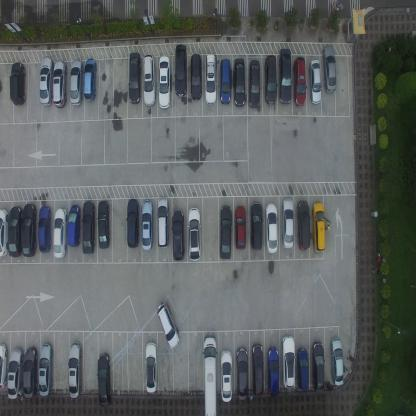car: (155, 300, 180, 349), (203, 334, 217, 415), (67, 341, 83, 399), (7, 345, 23, 401), (96, 353, 112, 407), (38, 342, 53, 398), (187, 207, 202, 262), (281, 335, 296, 390), (38, 56, 54, 106), (52, 60, 68, 109), (82, 200, 96, 256), (311, 201, 326, 253), (296, 200, 311, 252), (279, 48, 292, 107), (128, 51, 142, 105), (22, 203, 36, 257), (8, 204, 22, 258), (329, 336, 344, 386), (9, 61, 26, 105), (144, 341, 158, 394), (53, 206, 67, 259), (23, 346, 37, 399), (293, 56, 307, 108), (265, 204, 279, 256), (266, 346, 280, 398), (172, 209, 185, 264), (142, 51, 155, 106), (219, 206, 232, 261), (220, 348, 233, 403), (232, 56, 246, 107), (174, 42, 187, 96), (311, 340, 324, 394), (250, 202, 264, 252), (96, 200, 110, 250), (204, 52, 217, 105), (37, 205, 51, 254), (126, 198, 139, 250), (140, 200, 153, 252), (282, 198, 295, 250), (83, 57, 98, 102), (322, 45, 336, 93), (69, 57, 83, 105), (236, 346, 248, 402), (248, 59, 261, 110), (264, 55, 277, 106), (158, 54, 170, 109), (308, 58, 322, 105), (156, 198, 169, 248), (189, 52, 202, 102), (252, 343, 264, 397), (67, 204, 81, 247), (219, 57, 231, 106), (235, 206, 247, 250), (296, 347, 308, 391), (0, 206, 8, 257), (0, 342, 8, 390)
